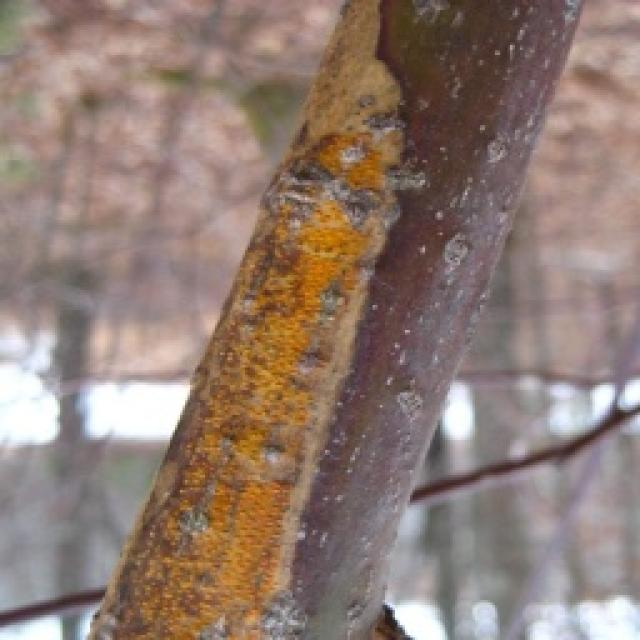Golden_canker: (108, 21, 411, 640)
